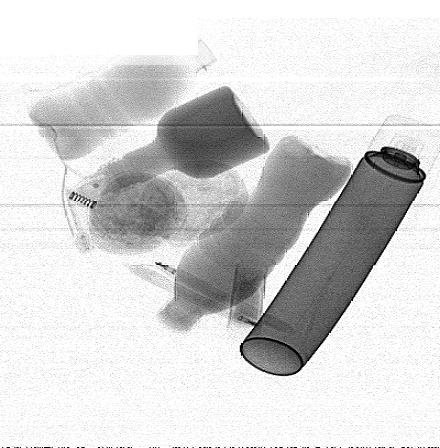Sprayer: (239, 113, 439, 377)
